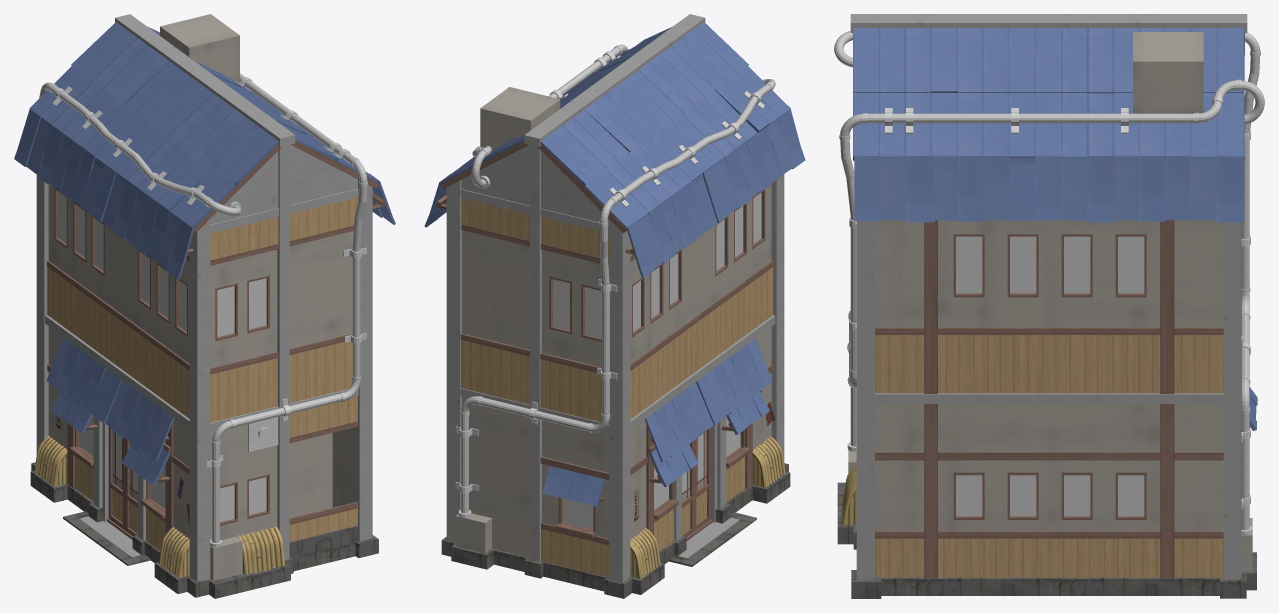
File: SM_ENV_KNVLLG_AreaG_Building_F.fbx
3 views of the same model, side by side, from view 1: azimuth 30°, elevation 25°; view 2: azimuth 150°, elevation 25°; view 3: azimuth 270°, elevation 25° (orthographic). The views are drawn at different scales.
Parts seen in each view (by area): view 1: SM_ENV_KNVLLG_AreaG_Building_F.mo; view 2: SM_ENV_KNVLLG_AreaG_Building_F.mo; view 3: SM_ENV_KNVLLG_AreaG_Building_F.mo.
Part boxes in pixels (x1=…): SM_ENV_KNVLLG_AreaG_Building_F.mo: x1=14, y1=14, x2=395, y2=598; SM_ENV_KNVLLG_AreaG_Building_F.mo: x1=424, y1=14, x2=805, y2=598; SM_ENV_KNVLLG_AreaG_Building_F.mo: x1=834, y1=14, x2=1264, y2=598.
Size of the model in its own units: 1304 by 2488 by 1843.
